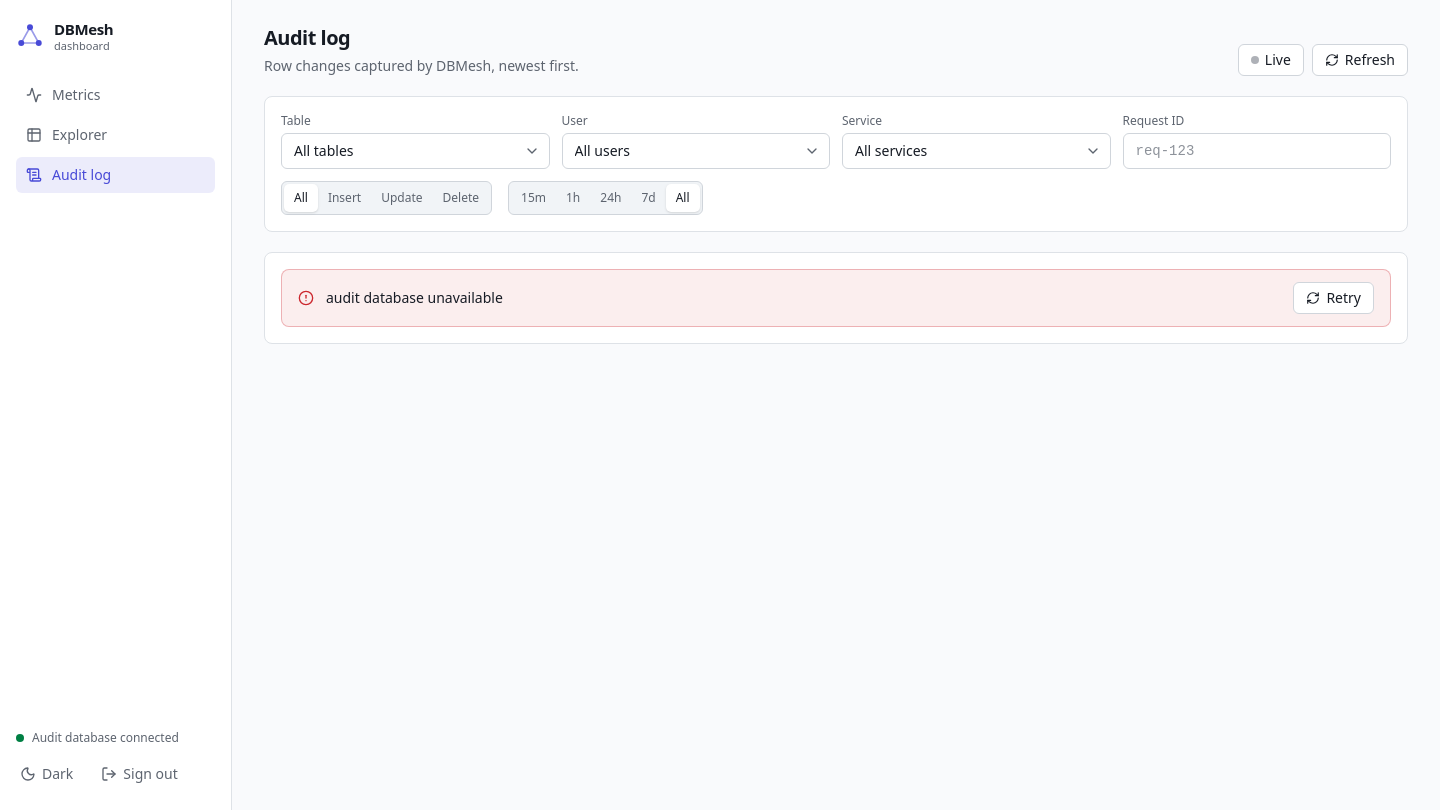
Scenario: audit log states › shows the API error and retries
This screenshot has width=1440, height=810.
Expected: the message "audit database unavailable Retry" is shown, x1=281 y1=269 x2=1391 y2=327
Click the button "Retry". click: [1334, 298]
box: x1=1293 y1=282 x2=1374 y2=314
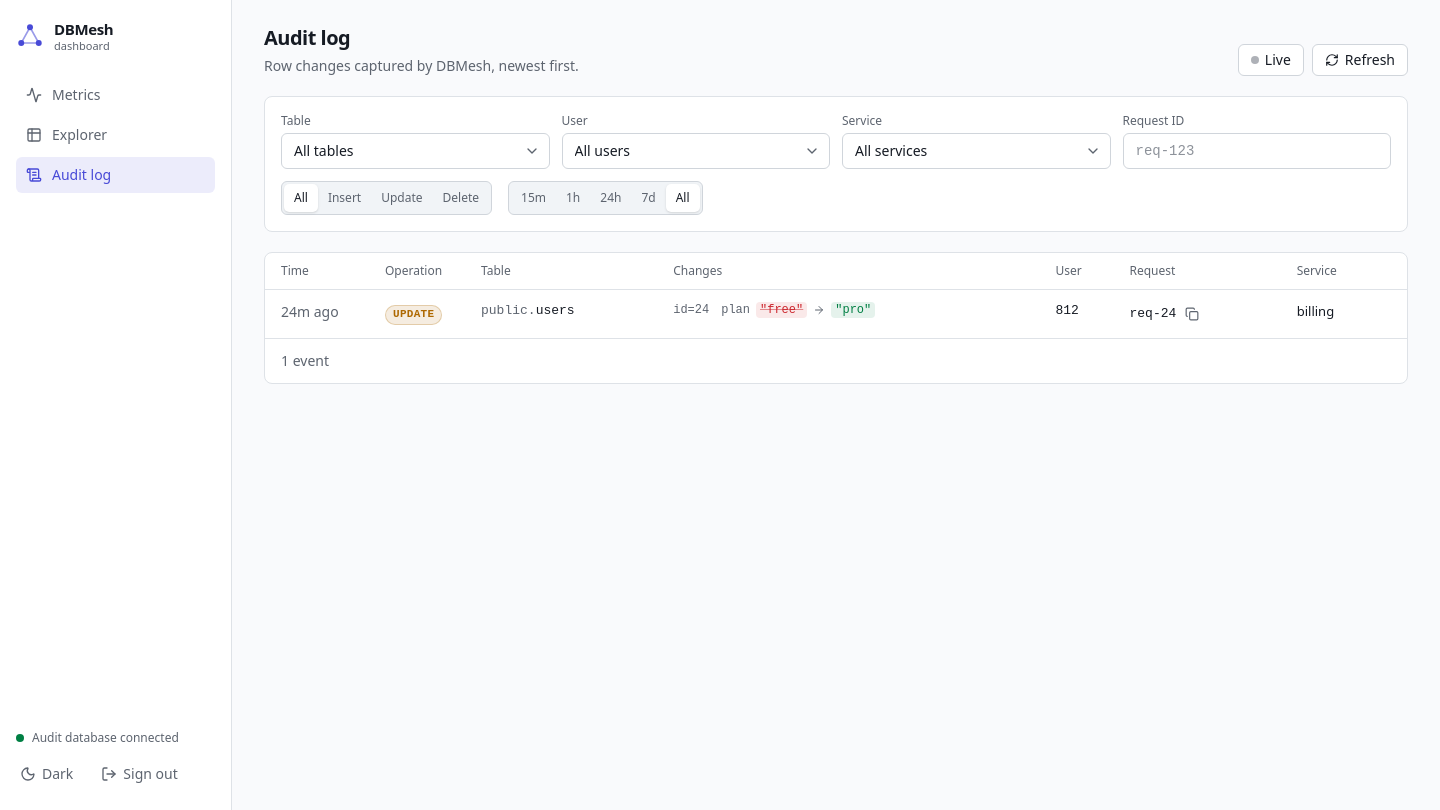
Result: the message "audit database unavailable Retry" is gone
